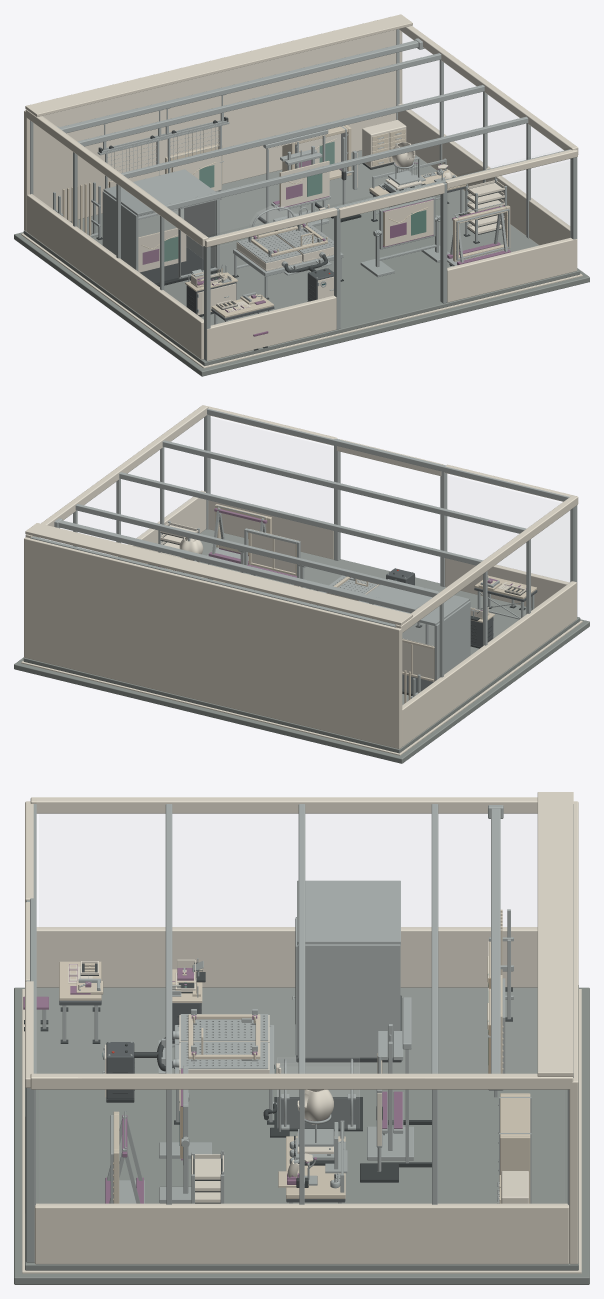
The model's file is museum-conservation-and-art-restoration--00932e96-starter-scene__31921.glb.
The picture shows the model from 3 angles, top to bottom: view 1: azimuth 30°, elevation 25°; view 2: azimuth 150°, elevation 25°; view 3: azimuth 270°, elevation 25°; orthographic projection. The views are drawn at different scales.
Parts seen in each view (by area): view 1: 001-museum-conservation-and-art-restoration-roofed-conservat (×4), 023-museum-conservation-and-art-restoration-paintings-quaran (×3), 000-museum-conservation-and-art-restoration-conservation-stu (×2), 026-museum-conservation-and-art-restoration-painting-turnove, 054-museum-conservation-and-art-restoration-collections-labe (×2), 055-museum-conservation-and-art-restoration-conservation-blo, 025-museum-conservation-and-art-restoration-canvas-support-s (×2), 027-museum-conservation-and-art-restoration-original-abstrac, 032-museum-conservation-and-art-restoration-padded-painting- (×2), 029-museum-conservation-and-art-restoration-original-abstrac, 024-museum-conservation-and-art-restoration-original-abstrac, 028-museum-conservation-and-art-restoration-double-sided-exa (+16 smaller); view 2: 001-museum-conservation-and-art-restoration-roofed-conservat (×4), 000-museum-conservation-and-art-restoration-conservation-stu (×2), 023-museum-conservation-and-art-restoration-paintings-quaran (×2), 027-museum-conservation-and-art-restoration-original-abstrac, 024-museum-conservation-and-art-restoration-original-abstrac, 026-museum-conservation-and-art-restoration-painting-turnove, 032-museum-conservation-and-art-restoration-padded-painting-, 033-museum-conservation-and-art-restoration-detached-decorat, 055-museum-conservation-and-art-restoration-conservation-blo, 044-museum-conservation-and-art-restoration-retouching-palet; view 3: 001-museum-conservation-and-art-restoration-roofed-conservat (×4), 023-museum-conservation-and-art-restoration-paintings-quaran, 000-museum-conservation-and-art-restoration-conservation-stu (×2), 059-museum-conservation-and-art-restoration-humidity-treatme (×2), 028-museum-conservation-and-art-restoration-double-sided-exa, 056-museum-conservation-and-art-restoration-artwork-travel-c, 006-museum-conservation-and-art-restoration-perforated-sucti, 004-museum-conservation-and-art-restoration-perforated-sucti, 026-museum-conservation-and-art-restoration-painting-turnove, 055-museum-conservation-and-art-restoration-conservation-blo, 034-museum-conservation-and-art-restoration-sculpture-mountm, 008-museum-conservation-and-art-restoration-vacuum-control-p (+10 smaller).
Boxes of the visible parts, box(x1,y1,x2,y2) form: 001-museum-conservation-and-art-restoration-roofed-conservat (×4): box(23, 14, 580, 365); 023-museum-conservation-and-art-restoration-paintings-quaran (×3): box(102, 169, 220, 286); 000-museum-conservation-and-art-restoration-conservation-stu (×2): box(14, 232, 589, 376); 026-museum-conservation-and-art-restoration-painting-turnove: box(360, 196, 450, 277); 054-museum-conservation-and-art-restoration-collections-labe (×2): box(362, 120, 406, 167); 055-museum-conservation-and-art-restoration-conservation-blo: box(467, 180, 504, 233); 025-museum-conservation-and-art-restoration-canvas-support-s (×2): box(53, 182, 100, 238); 027-museum-conservation-and-art-restoration-original-abstrac: box(384, 200, 433, 246); 032-museum-conservation-and-art-restoration-padded-painting- (×2): box(447, 202, 510, 266); 029-museum-conservation-and-art-restoration-original-abstrac: box(280, 161, 329, 207); 024-museum-conservation-and-art-restoration-original-abstrac: box(138, 228, 186, 272); 028-museum-conservation-and-art-restoration-double-sided-exa: box(271, 146, 330, 227); 001-museum-conservation-and-art-restoration-roofed-conservat (×4): box(23, 405, 580, 753); 000-museum-conservation-and-art-restoration-conservation-stu (×2): box(14, 619, 589, 763); 023-museum-conservation-and-art-restoration-paintings-quaran (×2): box(358, 579, 470, 680); 027-museum-conservation-and-art-restoration-original-abstrac: box(250, 529, 298, 572); 024-museum-conservation-and-art-restoration-original-abstrac: box(402, 638, 434, 679); 026-museum-conservation-and-art-restoration-painting-turnove: box(238, 528, 305, 587); 032-museum-conservation-and-art-restoration-padded-painting-: box(207, 505, 266, 560); 033-museum-conservation-and-art-restoration-detached-decorat: box(215, 504, 271, 554); 055-museum-conservation-and-art-restoration-conservation-blo: box(160, 522, 198, 557); 044-museum-conservation-and-art-restoration-retouching-palet: box(470, 617, 493, 646); 001-museum-conservation-and-art-restoration-roofed-conservat (×4): box(25, 792, 578, 1270); 023-museum-conservation-and-art-restoration-paintings-quaran: box(292, 880, 400, 1057); 000-museum-conservation-and-art-restoration-conservation-stu (×2): box(14, 987, 589, 1284); 059-museum-conservation-and-art-restoration-humidity-treatme (×2): box(274, 1058, 362, 1131); 028-museum-conservation-and-art-restoration-double-sided-exa: box(367, 1024, 413, 1160); 056-museum-conservation-and-art-restoration-artwork-travel-c: box(500, 1093, 530, 1203); 006-museum-conservation-and-art-restoration-perforated-sucti: box(180, 1042, 268, 1069); 004-museum-conservation-and-art-restoration-perforated-sucti: box(180, 1014, 268, 1041); 026-museum-conservation-and-art-restoration-painting-turnove: box(159, 1065, 211, 1203); 055-museum-conservation-and-art-restoration-conservation-blo: box(191, 1154, 223, 1202); 034-museum-conservation-and-art-restoration-sculpture-mountm: box(286, 1136, 345, 1198); 008-museum-conservation-and-art-restoration-vacuum-control-p: box(106, 1042, 134, 1099).
Size of the model in its own units: 12.4 by 4.15 by 10.4.
